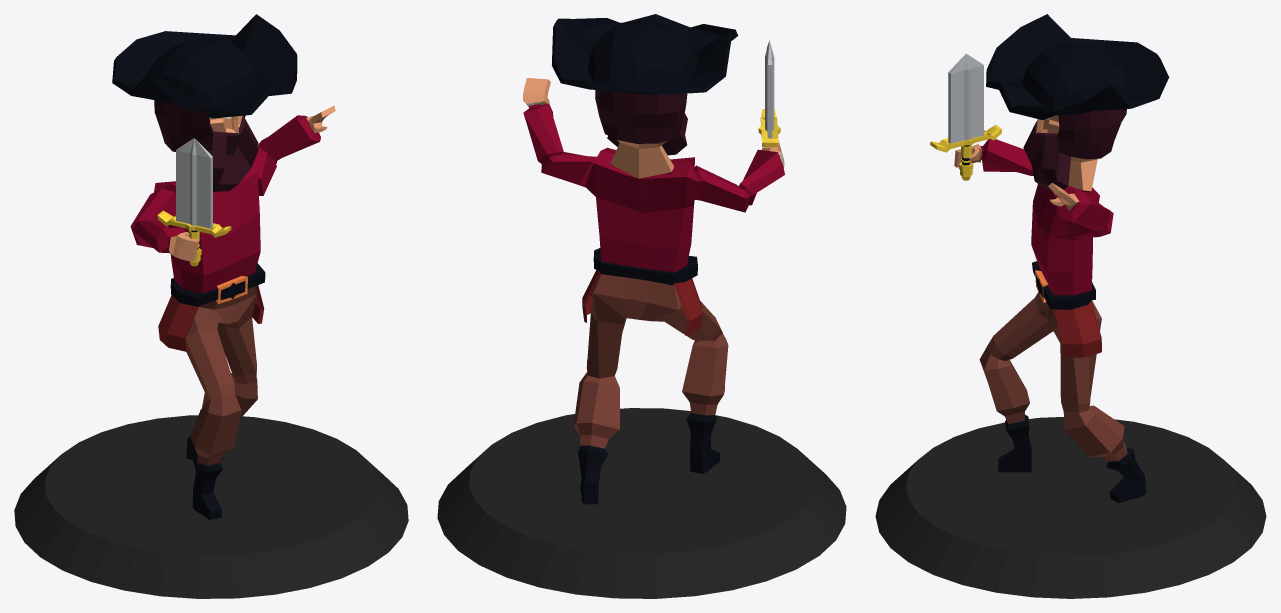
The model's file is Pirata.fbx.
The picture shows the model from 3 angles, left to right: view 1: azimuth 30°, elevation 25°; view 2: azimuth 150°, elevation 25°; view 3: azimuth 270°, elevation 25°; orthographic projection. The views are drawn at different scales.
Parts seen in each view (by area): view 1: Cilindro, Cubo.001, Cilindro.001; view 2: Cilindro, Cubo.001, Cilindro.001; view 3: Cilindro, Cubo.001, Cilindro.001.
Part boxes in pixels (bbox=[...]): Cilindro: bbox=[14, 415, 408, 598]; Cubo.001: bbox=[112, 14, 335, 519]; Cilindro.001: bbox=[157, 138, 231, 266]; Cilindro: bbox=[437, 408, 846, 598]; Cubo.001: bbox=[523, 14, 784, 504]; Cilindro.001: bbox=[758, 40, 780, 147]; Cilindro: bbox=[875, 417, 1266, 598]; Cubo.001: bbox=[954, 14, 1169, 503]; Cilindro.001: bbox=[930, 54, 1001, 180].
Bounding box in the file's own units: 154 × 203 × 154.
